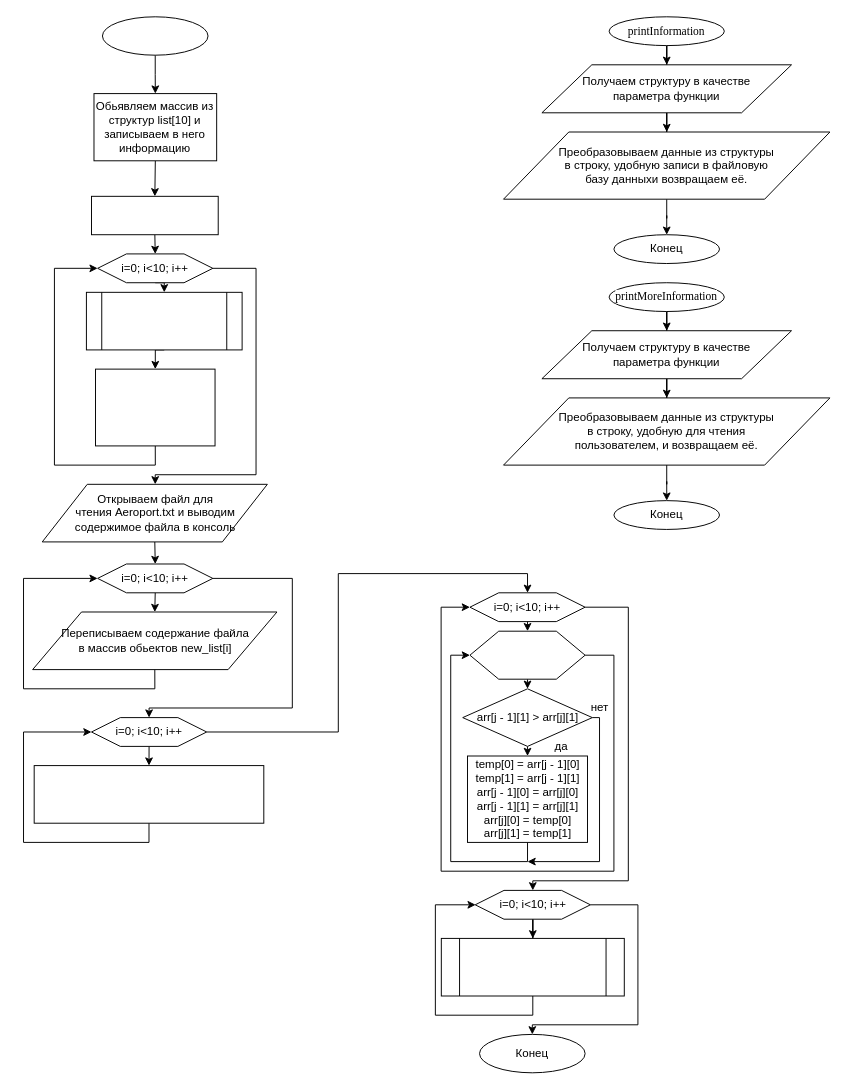
This 847x1090 diagram has some shape labels left out. Here are the shapes that lost their labels. From the top down, the centre of each, then its label:
pixel 154 35: Начало
pixel 154 215: Открываем файл для записи Aeroport.txt
pixel 163 320: printInformation(list[i])
pixel 155 407: Записываем информацию в файл используя функцию printInformation
pixel 527 654: j=(10-1); j>i; j--
pixel 148 794: arr[ i ][ 0 ] = i arr[ i ][ 1 ] = new_list[ i ].number_race
pixel 532 966: printMoreInformation(list[i])
